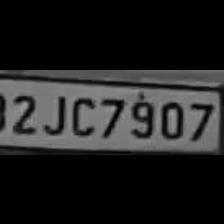0: (154, 95, 184, 137)
2: (6, 88, 38, 134)
7: (183, 95, 214, 139), (96, 92, 124, 138)
9: (124, 94, 156, 138)
C: (66, 90, 96, 136)
J: (40, 88, 66, 134)
